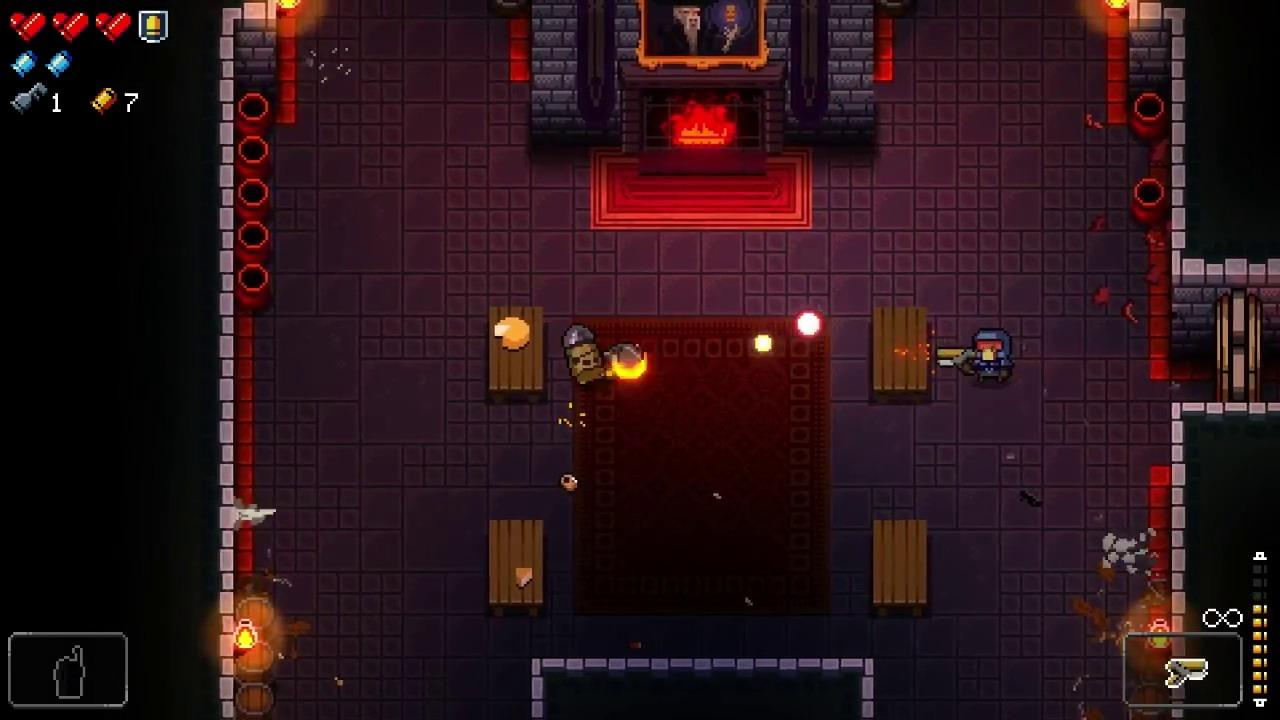bullet: (794, 310, 823, 337)
locked_door: (1216, 286, 1262, 402)
player: (974, 327, 1013, 385)
table: (488, 306, 544, 402), (872, 521, 928, 617), (489, 520, 543, 618), (873, 305, 927, 400)
veteran_bullet_kin: (562, 324, 607, 387)
